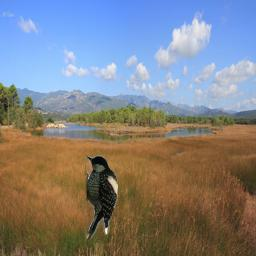Woodpecker: (85, 155, 118, 240)
